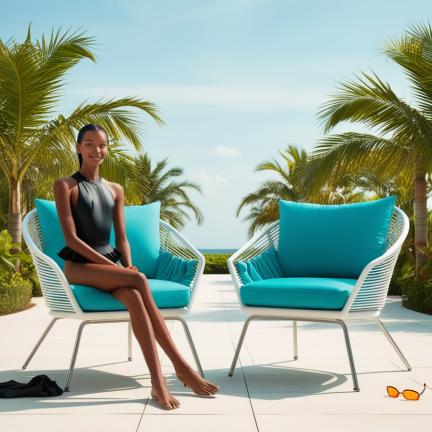empty chair: (228, 197, 411, 391)
guest on chair: (23, 124, 219, 409)
